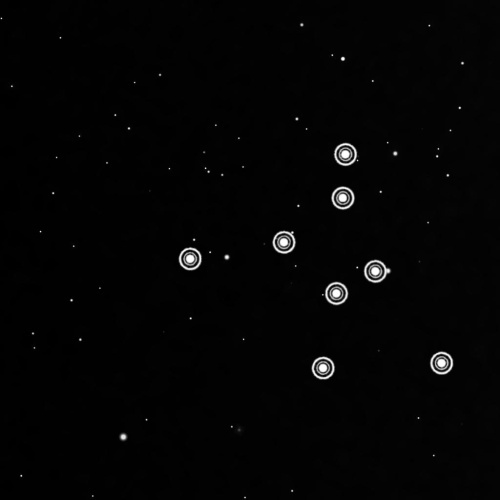hercules: (174, 136, 457, 388)
